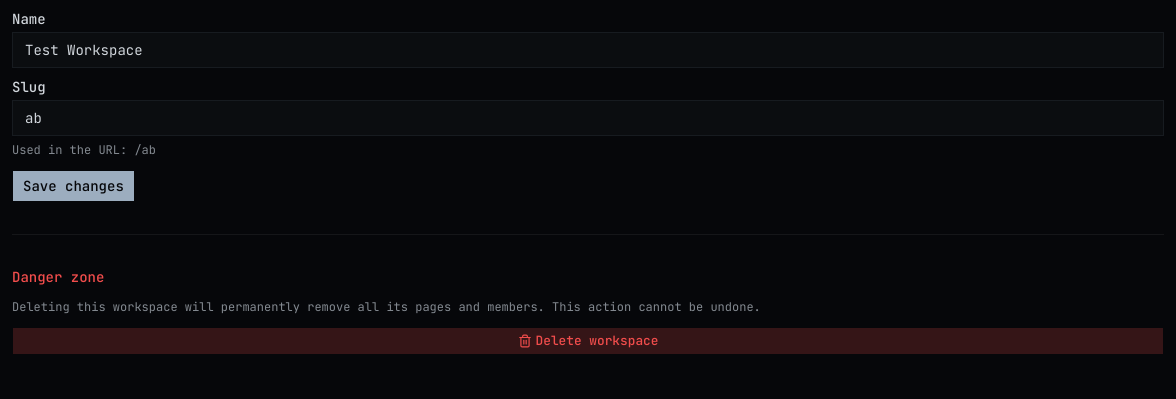
WorkspaceSettingsForm › shows error when slug is invalid
Click the button "Save changes".
click(73, 186)  # box [12,170,135,202]
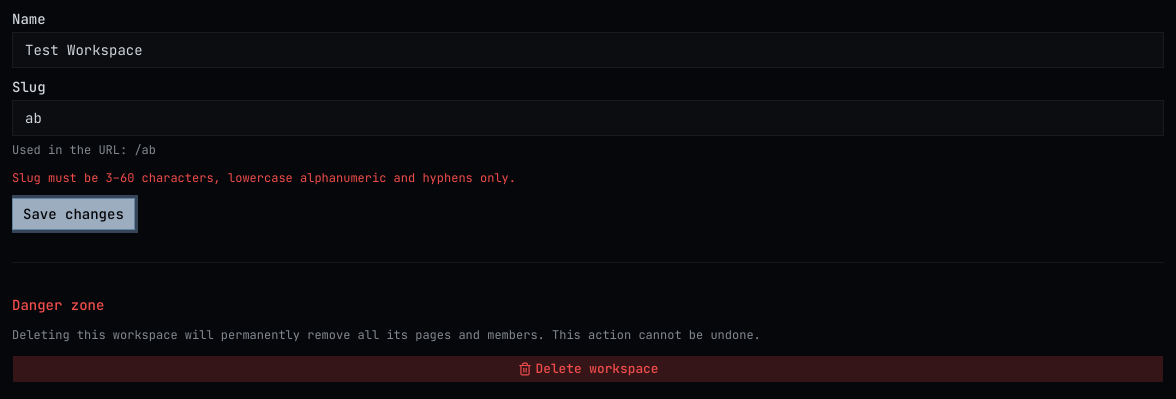
expect the text "Slug must be 3–60 characters, lowercase alphanumeric and hyphens only." is shown: met, box [12,170,516,186]
